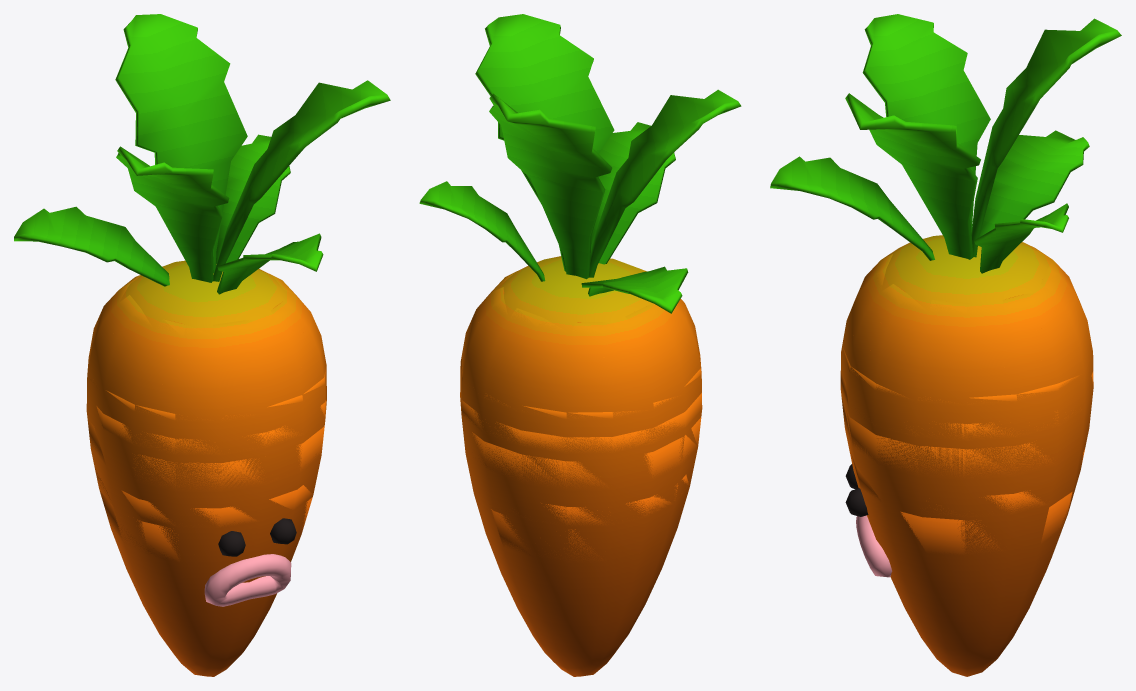
Rendered from ENEMY_Carrot.fbx.
3 renders of one model, left to right at view 1: azimuth 30°, elevation 25°; view 2: azimuth 150°, elevation 25°; view 3: azimuth 270°, elevation 25°, orthographic. The views are drawn at different scales.
Visible parts, largest first — view 1: ENEMY_Carrot_00, ENEMY_Carrot_06, Carrot_Mouth, ENEMY_Carrot_08, ENEMY_Carrot_01, ENEMY_Carrot_05, ENEMY_Carrot_09, Carrot_SphereEyes, ENEMY_Carrot_04; view 2: ENEMY_Carrot_00, ENEMY_Carrot_06, ENEMY_Carrot_05, ENEMY_Carrot_01, ENEMY_Carrot_08, ENEMY_Carrot_09, ENEMY_Carrot_04; view 3: ENEMY_Carrot_00, ENEMY_Carrot_06, ENEMY_Carrot_09, ENEMY_Carrot_01, ENEMY_Carrot_08, Carrot_Mouth, ENEMY_Carrot_05, ENEMY_Carrot_04, Carrot_SphereEyes.
Part boxes in pixels (x1=…): ENEMY_Carrot_00: x1=14, y1=14, x2=390, y2=676; ENEMY_Carrot_06: x1=87, y1=419, x2=324, y2=491; Carrot_Mouth: x1=204, y1=554, x2=291, y2=606; ENEMY_Carrot_08: x1=95, y1=467, x2=312, y2=528; ENEMY_Carrot_01: x1=118, y1=271, x2=295, y2=337; ENEMY_Carrot_05: x1=93, y1=399, x2=326, y2=455; ENEMY_Carrot_09: x1=100, y1=491, x2=312, y2=564; Carrot_SphereEyes: x1=218, y1=518, x2=296, y2=556; ENEMY_Carrot_04: x1=87, y1=353, x2=326, y2=421; ENEMY_Carrot_00: x1=419, y1=14, x2=741, y2=676; ENEMY_Carrot_06: x1=471, y1=417, x2=701, y2=490; ENEMY_Carrot_05: x1=461, y1=393, x2=702, y2=453; ENEMY_Carrot_01: x1=492, y1=265, x2=661, y2=334; ENEMY_Carrot_08: x1=478, y1=474, x2=689, y2=527; ENEMY_Carrot_09: x1=486, y1=509, x2=646, y2=563; ENEMY_Carrot_04: x1=460, y1=351, x2=701, y2=419; ENEMY_Carrot_00: x1=770, y1=14, x2=1121, y2=676; ENEMY_Carrot_06: x1=841, y1=397, x2=1062, y2=479; ENEMY_Carrot_09: x1=873, y1=492, x2=1072, y2=556; ENEMY_Carrot_01: x1=875, y1=244, x2=1058, y2=313; ENEMY_Carrot_08: x1=851, y1=448, x2=1085, y2=518; Carrot_Mouth: x1=856, y1=515, x2=892, y2=577; ENEMY_Carrot_05: x1=840, y1=371, x2=1093, y2=441; ENEMY_Carrot_04: x1=843, y1=347, x2=1086, y2=404; Carrot_SphereEyes: x1=845, y1=464, x2=868, y2=516.
Size of the model in its own units: 3.02 by 6.43 by 3.16.
